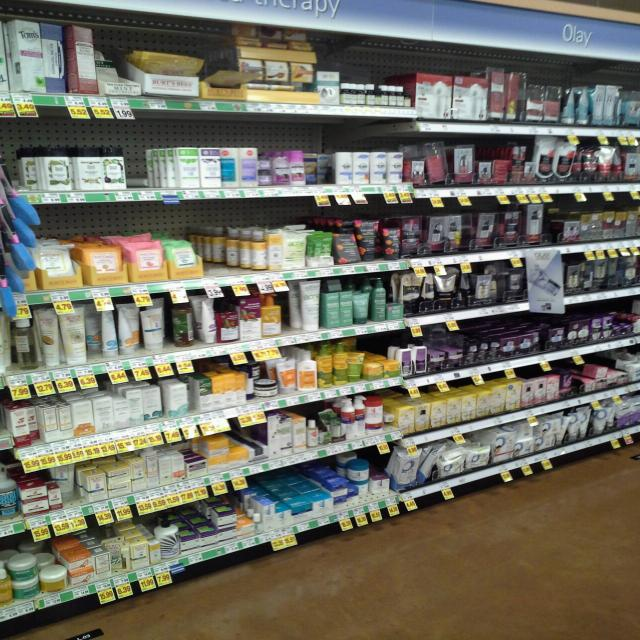empty: (203, 212, 258, 279), (124, 134, 154, 191)
